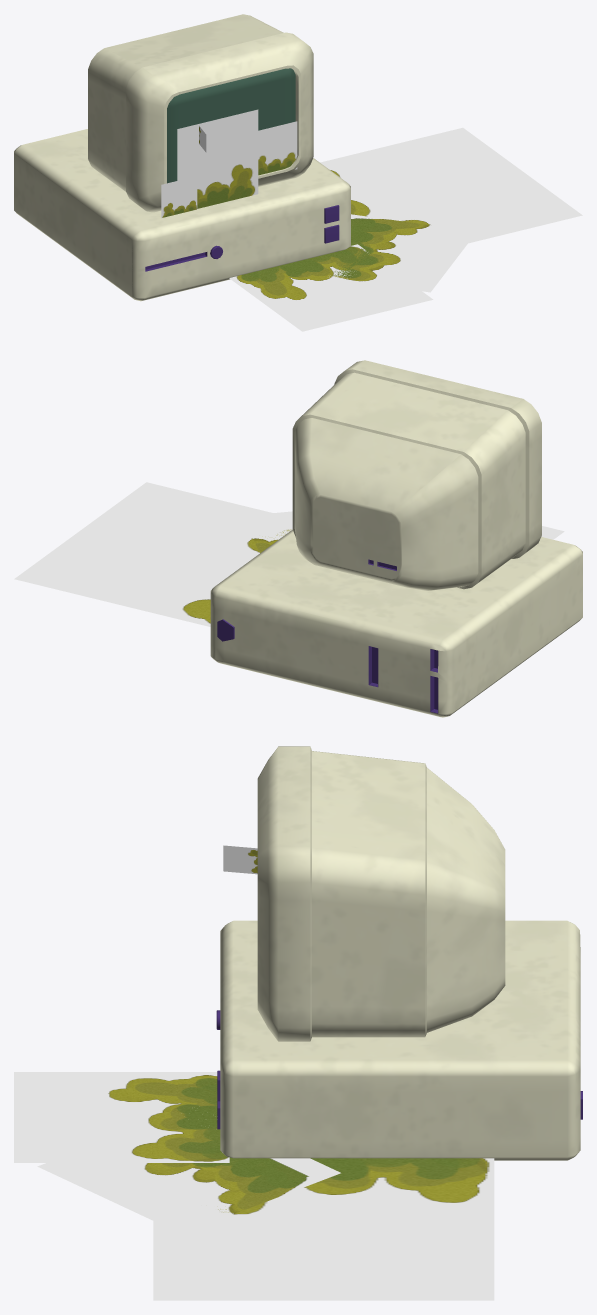
The model's file is pc_con_erba.fbx.
The picture shows the model from 3 angles, top to bottom: view 1: azimuth 30°, elevation 25°; view 2: azimuth 150°, elevation 25°; view 3: azimuth 270°, elevation 25°; orthographic projection. The views are drawn at different scales.
Visible parts, largest first — view 1: pPlane8; view 2: pPlane8; view 3: pPlane8.
Boxes of the visible parts, x1=… form: pPlane8: x1=14, y1=14, x2=582, y2=331; pPlane8: x1=14, y1=360, x2=582, y2=717; pPlane8: x1=14, y1=746, x2=582, y2=1300.
Bounding box in the file's own units: 5.23 × 2.45 × 4.28.
